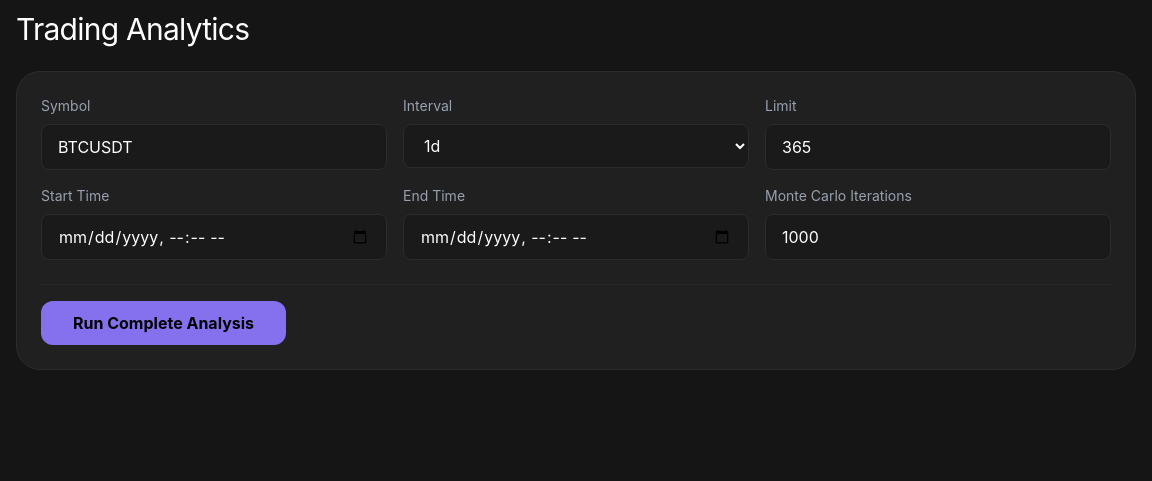
Test: Analytics component › shows processing state and disables button
Click the button "Run Complete Analysis". click: click(164, 323)
box: top-left (41, 301), bottom-right (286, 345)
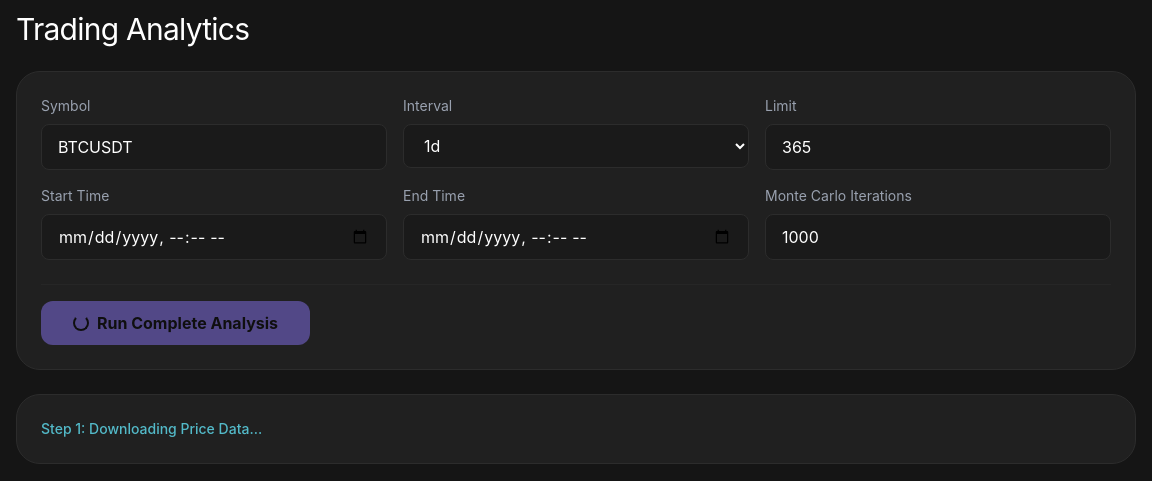
Now the button "Run Complete Analysis" is disabled, box top-left (41, 301), bottom-right (310, 345)
Now the text "Step 1: Downloading Price Data..." is shown, box top-left (41, 420), bottom-right (262, 437)
